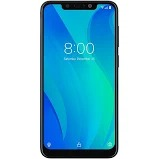vsmart: (39, 1, 121, 158)
